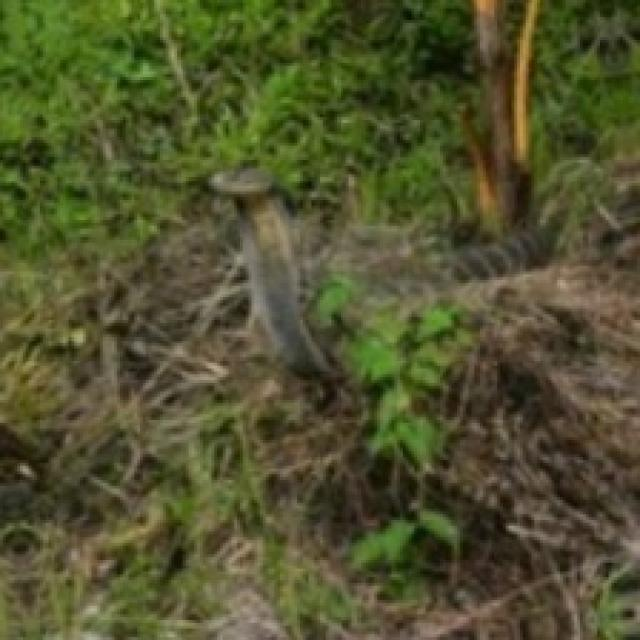king cobra: (209, 169, 331, 374)
